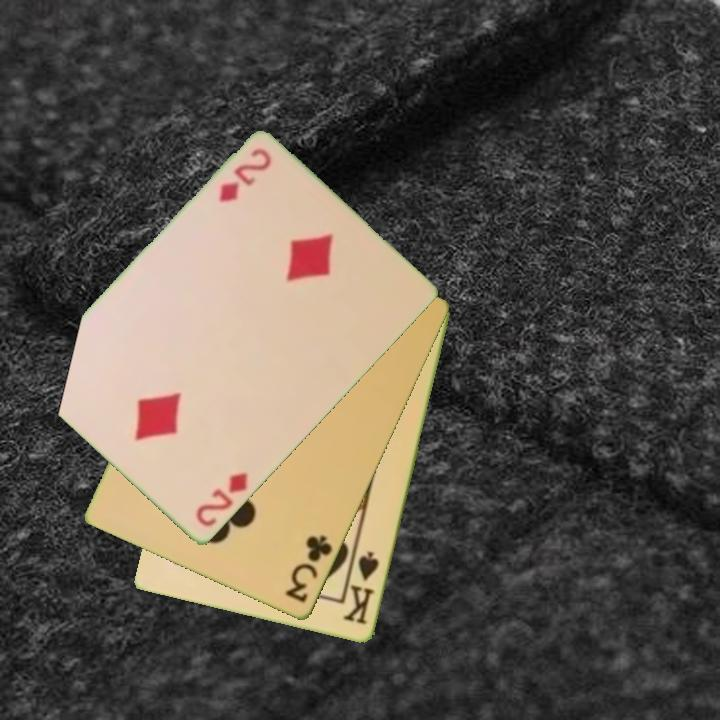2d: (215, 145, 275, 206), (192, 470, 251, 531)
3c: (282, 532, 336, 606)
Ks: (340, 548, 383, 628)
